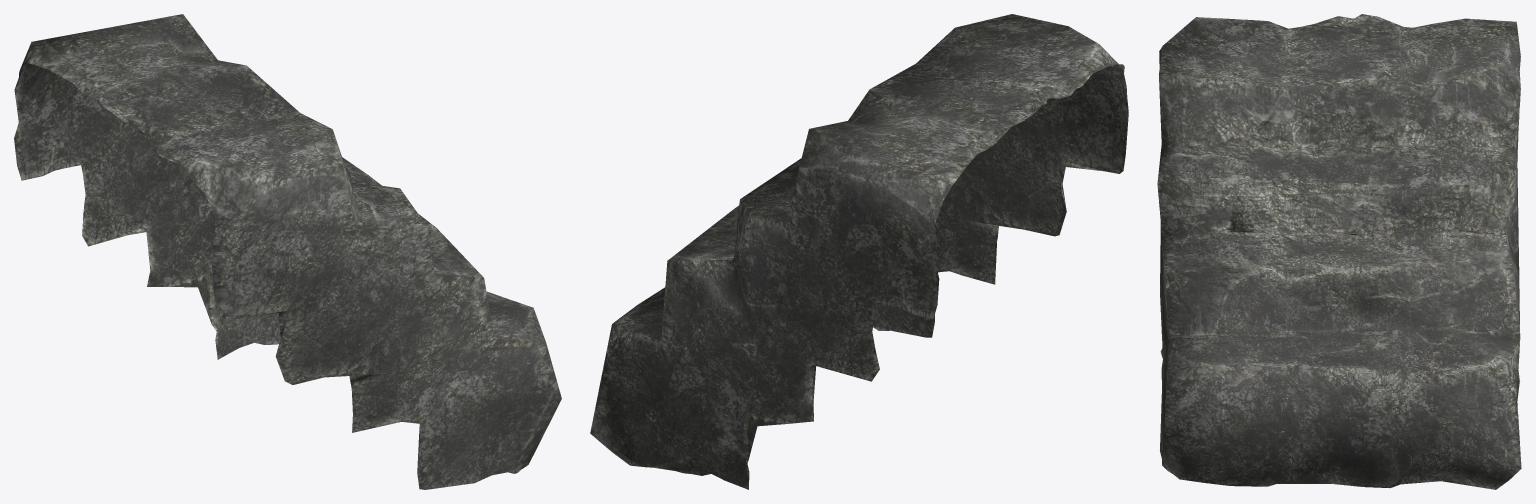
File: stone_stairs.glb
3 views of the same model, side by side, from view 1: azimuth 30°, elevation 25°; view 2: azimuth 150°, elevation 25°; view 3: azimuth 270°, elevation 25° (orthographic). The views are drawn at different scales.
Visible parts, largest first — view 1: Stair_low; view 2: Stair_low; view 3: Stair_low.
Part boxes in pixels (x1,y1,x2,y2): Stair_low: (14, 14, 561, 489); Stair_low: (590, 14, 1128, 489); Stair_low: (1157, 14, 1521, 489).
Bounding box in the file's own units: 2 × 2 × 1.98.
1 material, 1 textured.
